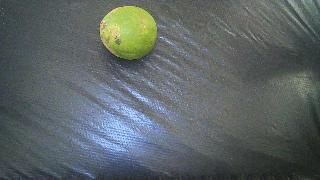DESECHO: (99, 6, 157, 59)
